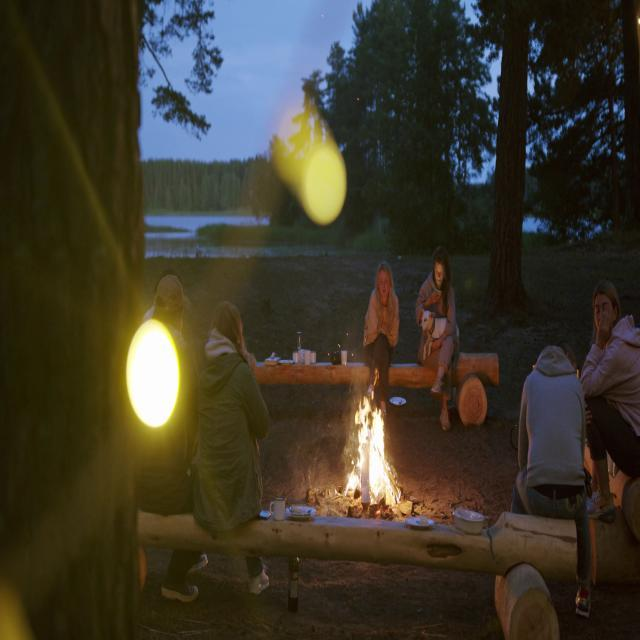Fire: (267, 101, 353, 228), (337, 383, 398, 518)
